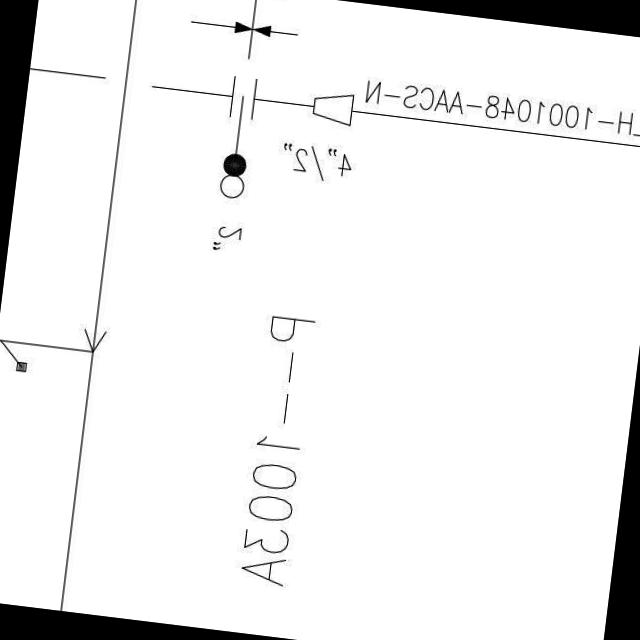SP: (302, 86, 361, 130)
